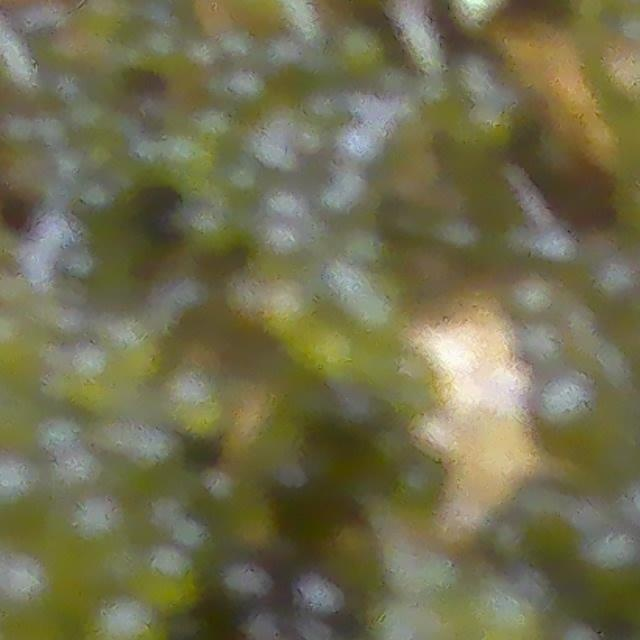SeaGrape: (535, 361, 618, 452), (55, 505, 138, 580), (95, 310, 166, 383), (164, 362, 237, 430), (58, 346, 128, 413), (587, 245, 640, 329), (135, 546, 195, 609)
